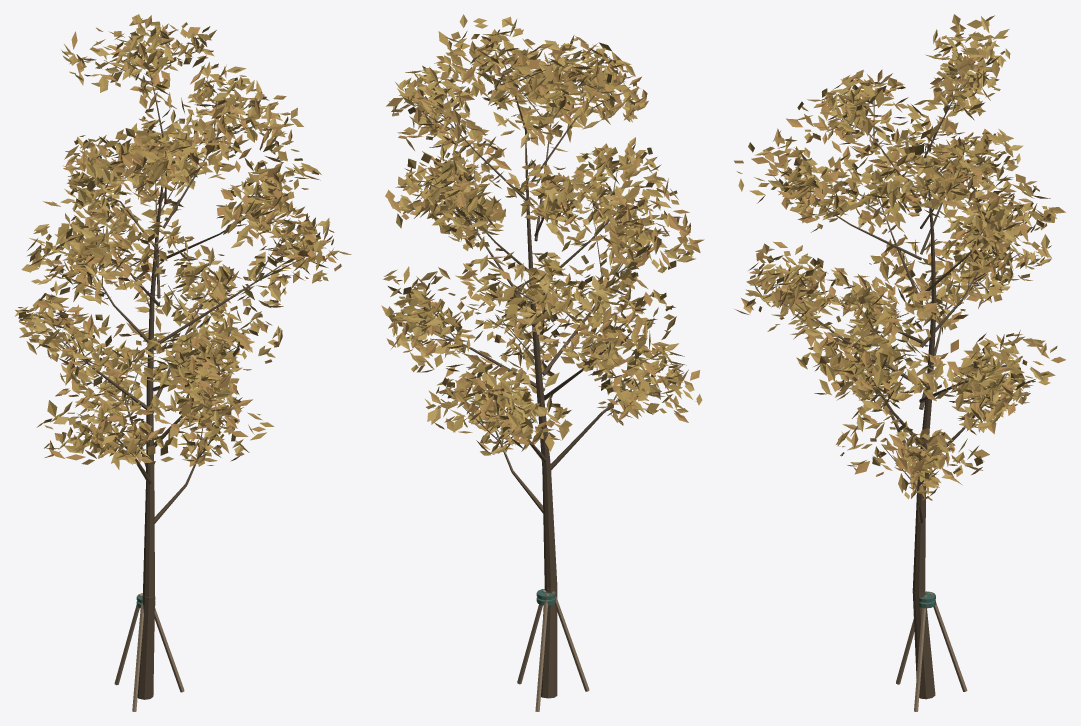
Rendered from campus-autumn-amber-v2.glb.
3 views of the same model, side by side, from view 1: azimuth 30°, elevation 25°; view 2: azimuth 150°, elevation 25°; view 3: azimuth 270°, elevation 25° (orthographic). The views are drawn at different scales.
Visible parts, largest first — view 1: 逐片错落分布的叶冠, 主干、分枝和末端细枝; view 2: 逐片错落分布的叶冠, 主干、分枝和末端细枝; view 3: 逐片错落分布的叶冠, 主干、分枝和末端细枝.
Boxes of the visible parts, left/top/right/bottom form: 逐片错落分布的叶冠: left=14, top=14, right=351, bottom=469; 主干、分枝和末端细枝: left=55, top=43, right=308, bottom=711; 逐片错落分布的叶冠: left=381, top=14, right=704, bottom=455; 主干、分枝和末端细枝: left=416, top=49, right=657, bottom=711; 逐片错落分布的叶冠: left=734, top=14, right=1065, bottom=500; 主干、分枝和末端细枝: left=777, top=47, right=1021, bottom=711.
Bounding box in the file's own units: 3.21 × 7.05 × 3.15.
